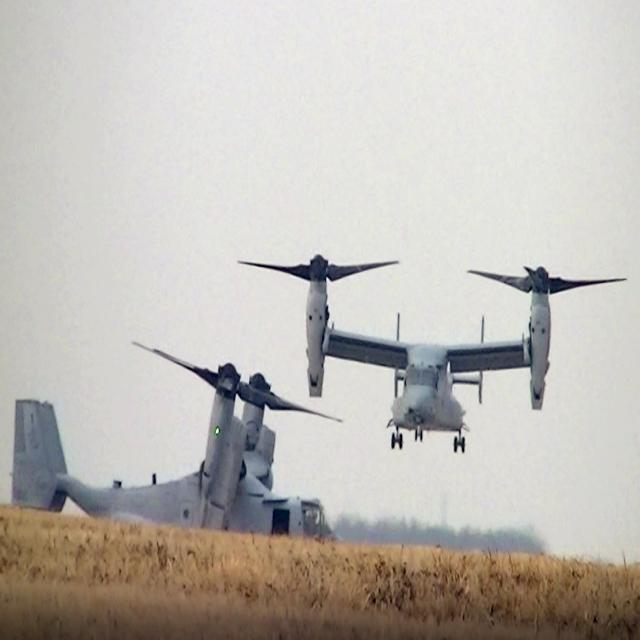MIL_Plane: (237, 254, 627, 454), (9, 341, 345, 541)
